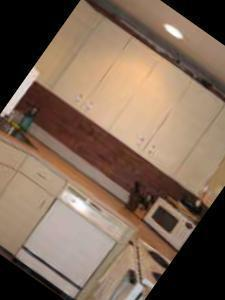Electrodomestico: (14, 177, 134, 300), (0, 42, 44, 236), (60, 235, 166, 300)
